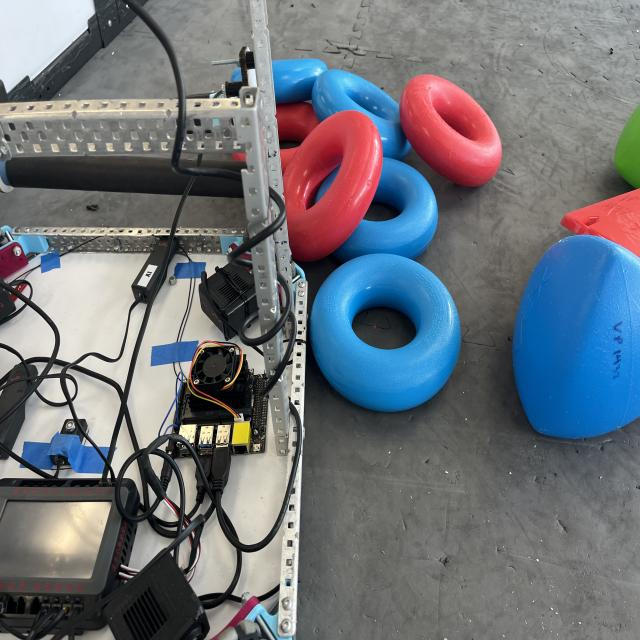Blue-Ring: (310, 253, 461, 412), (334, 157, 438, 262), (311, 70, 410, 160), (271, 58, 328, 103)
Red-Ring: (284, 110, 382, 262), (399, 75, 501, 187), (276, 102, 319, 143), (280, 148, 296, 173)
